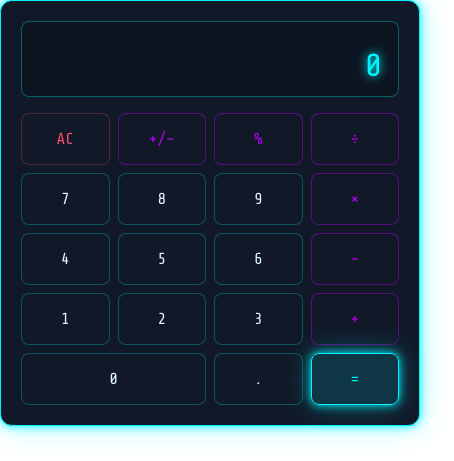
it: Calculator — basic arithmetic › adds two numbers
Click the button "3" at x=258, y=319, box [214,293,302,345]
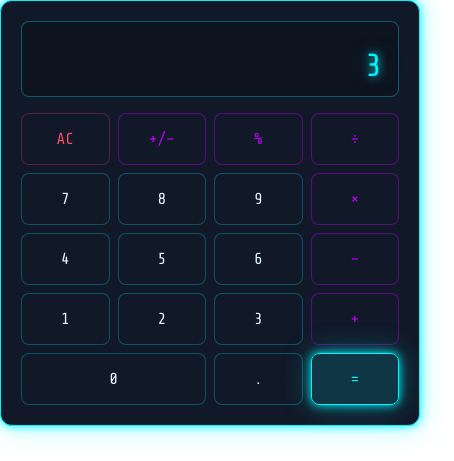
Click the button "+" at x=355, y=319, box [310,293,399,345]
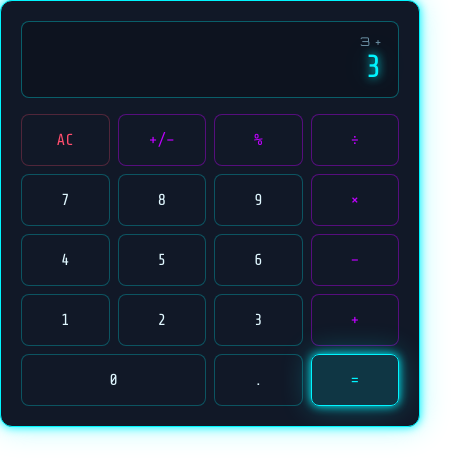
Click the button "4" at x=65, y=260, box [21,234,110,286]
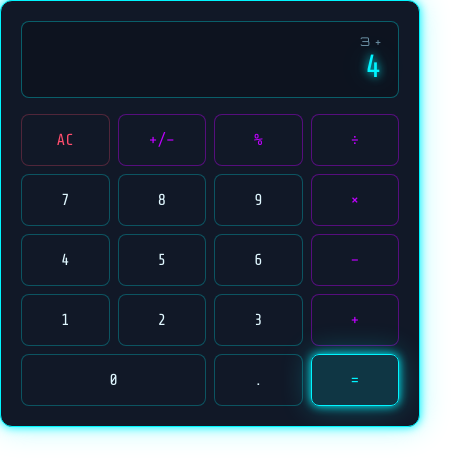
Click the button "=" at x=355, y=380, box [310,354,399,406]
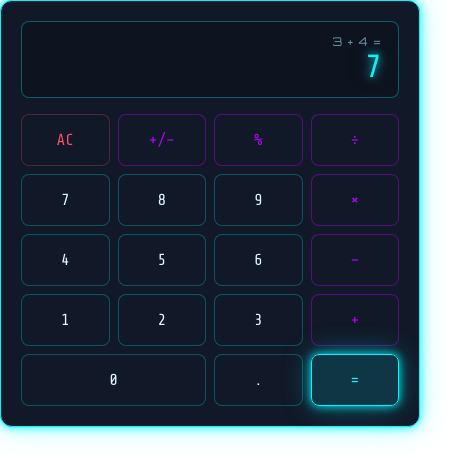
Result: the text with class "display-value" reads "7" at [365,49,382,85]
